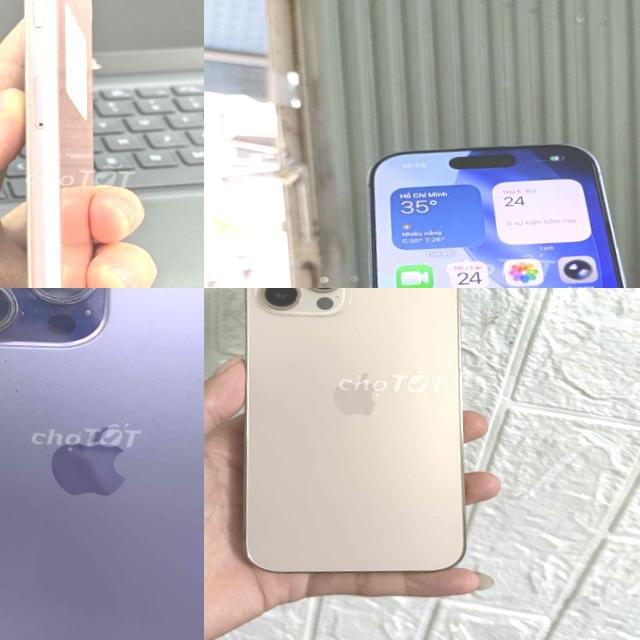scratch: (0, 355, 52, 435), (144, 407, 176, 467), (19, 288, 107, 308), (48, 234, 70, 256), (62, 140, 84, 162), (64, 121, 76, 138)
